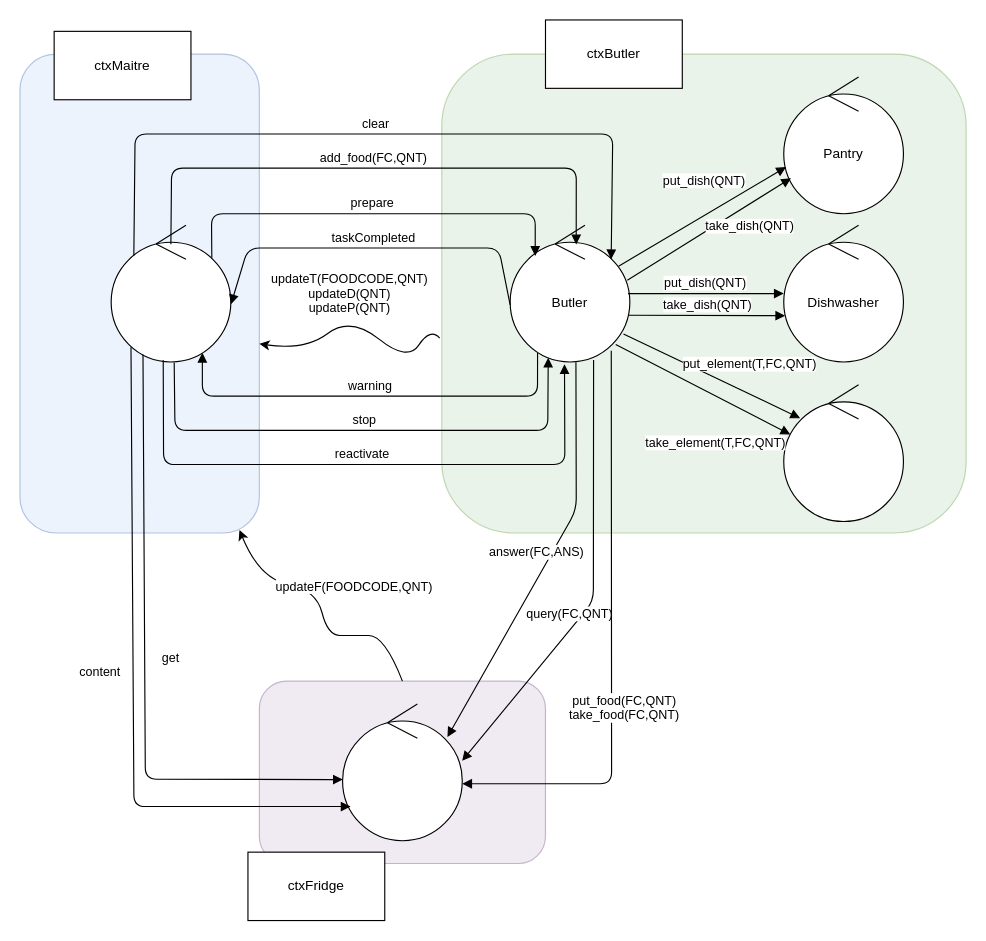
Some shapes in this 986 by 941 pixel diagram are drawn without their labels. The shapes that lost their labels are listed below. From the top down, each one's centre as x and y in pixels, then its label:
At point 170,293: "Maitre".
At point 843,453: "Table".
At point 401,772: "Fridge".
